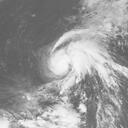cyclone: (44, 28, 113, 92)
